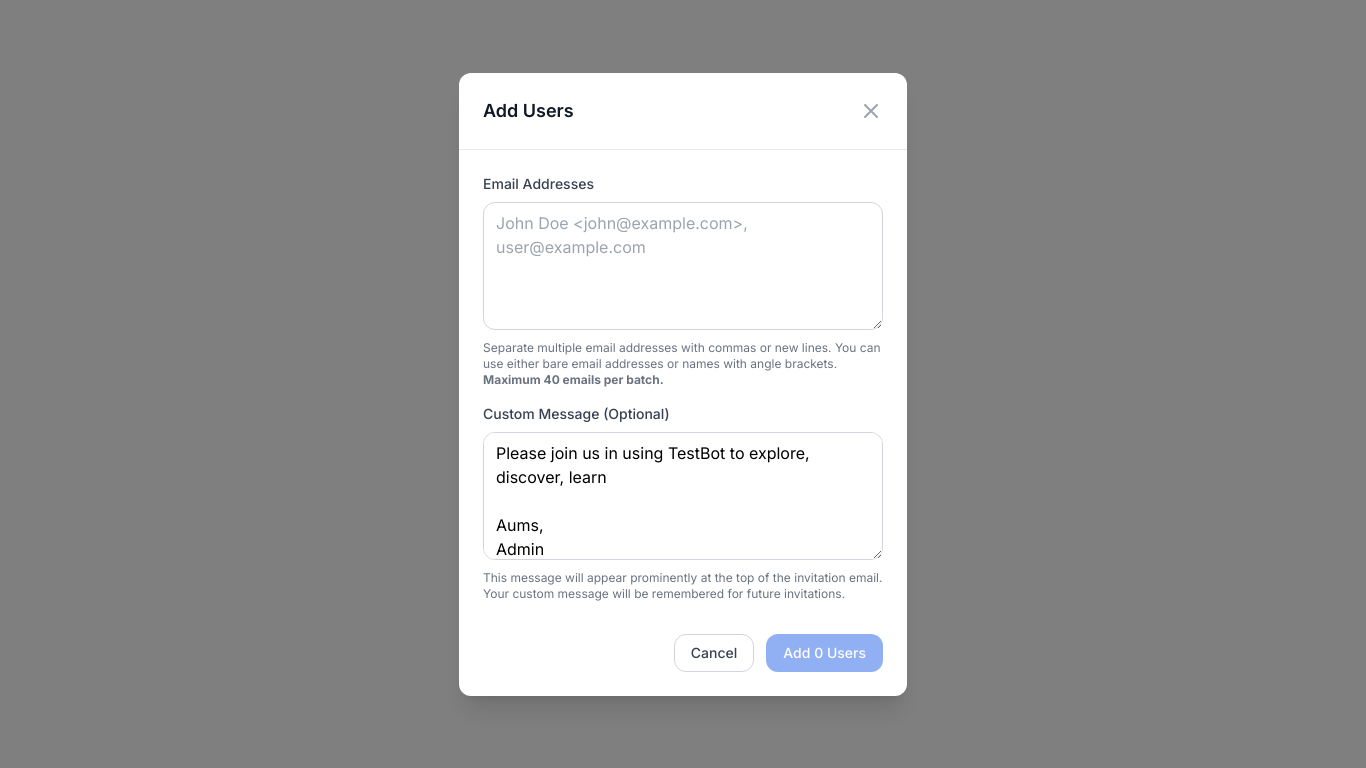
Scenario: AddUsersModal › shows validation error for mixed valid and invalid emails
The width and height of the screenshot is (1366, 768).
Type "valid@example.com, invalid-email" into the text box labelled "Email Addresses" at (683, 266), box [483,202,883,330]
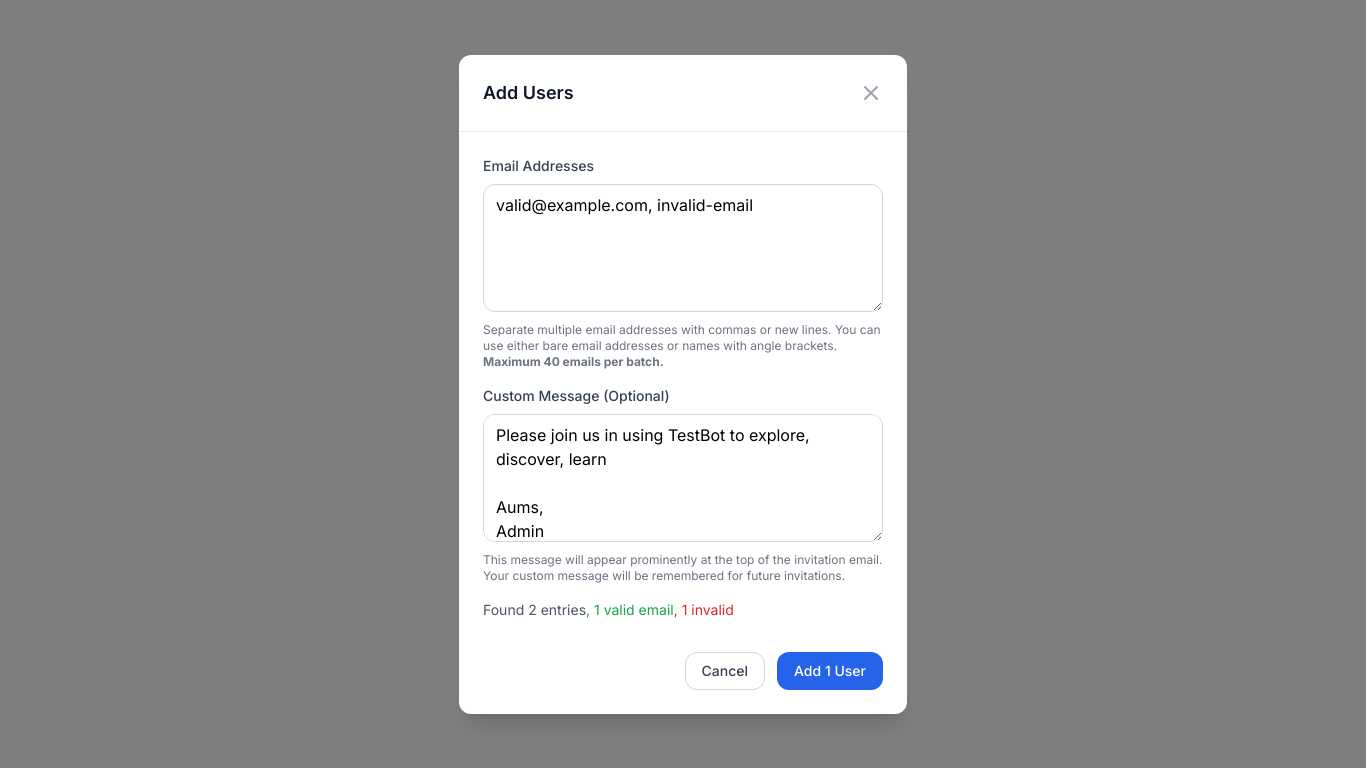
Click the button "Add 1 User" at (830, 670), box [777,652,883,690]
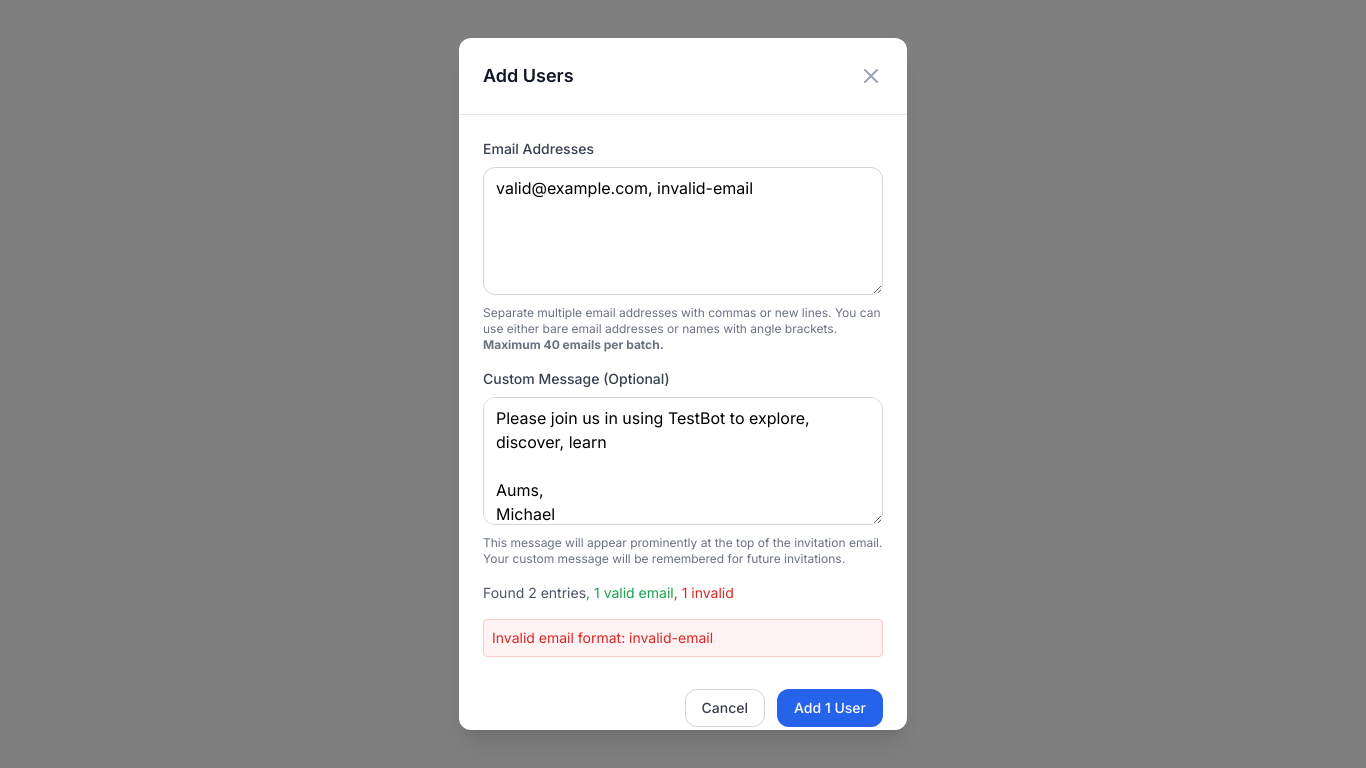
Expected: the text "Invalid email format: invalid-email" is shown, [483,619,883,657]
